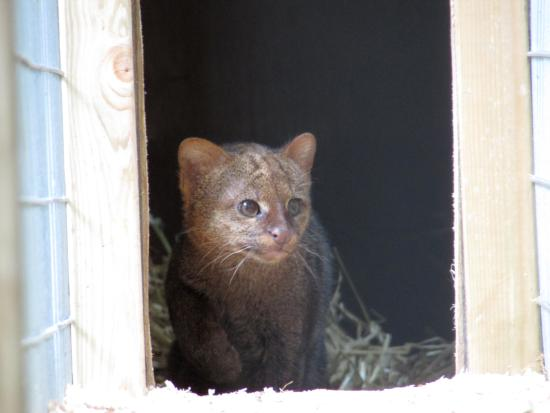Jaguarundi: (157, 127, 349, 387)
